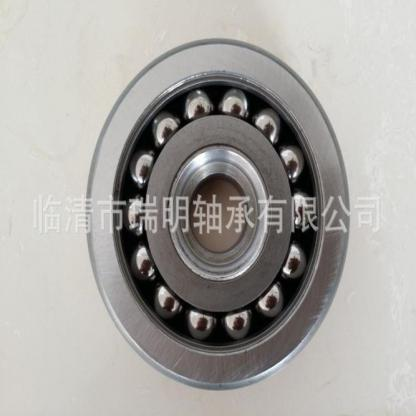FOD: (78, 31, 355, 395)
